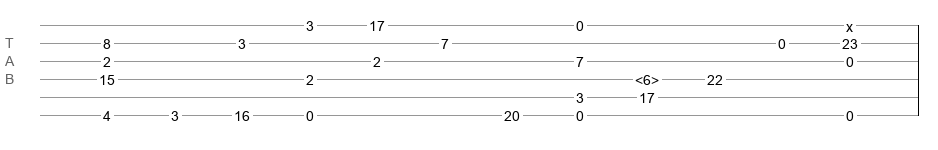0: (306, 108, 314, 118), (576, 108, 584, 118), (576, 18, 584, 28), (778, 36, 786, 46), (846, 54, 854, 64), (846, 108, 854, 118)
15: (99, 72, 115, 82)
16: (234, 108, 250, 118)
17: (369, 18, 385, 28), (639, 90, 655, 100)
2: (103, 54, 111, 64), (306, 72, 314, 82), (373, 54, 381, 64)
20: (504, 108, 520, 118)
22: (707, 72, 723, 82)
23: (842, 36, 858, 46)
3: (171, 108, 179, 118), (238, 36, 246, 46), (306, 18, 314, 28), (576, 90, 584, 100)
4: (103, 108, 111, 118)
7: (441, 36, 449, 46), (576, 54, 584, 64)
8: (103, 36, 111, 46)
harmonic: (635, 72, 659, 82)
x: (846, 19, 853, 27)
